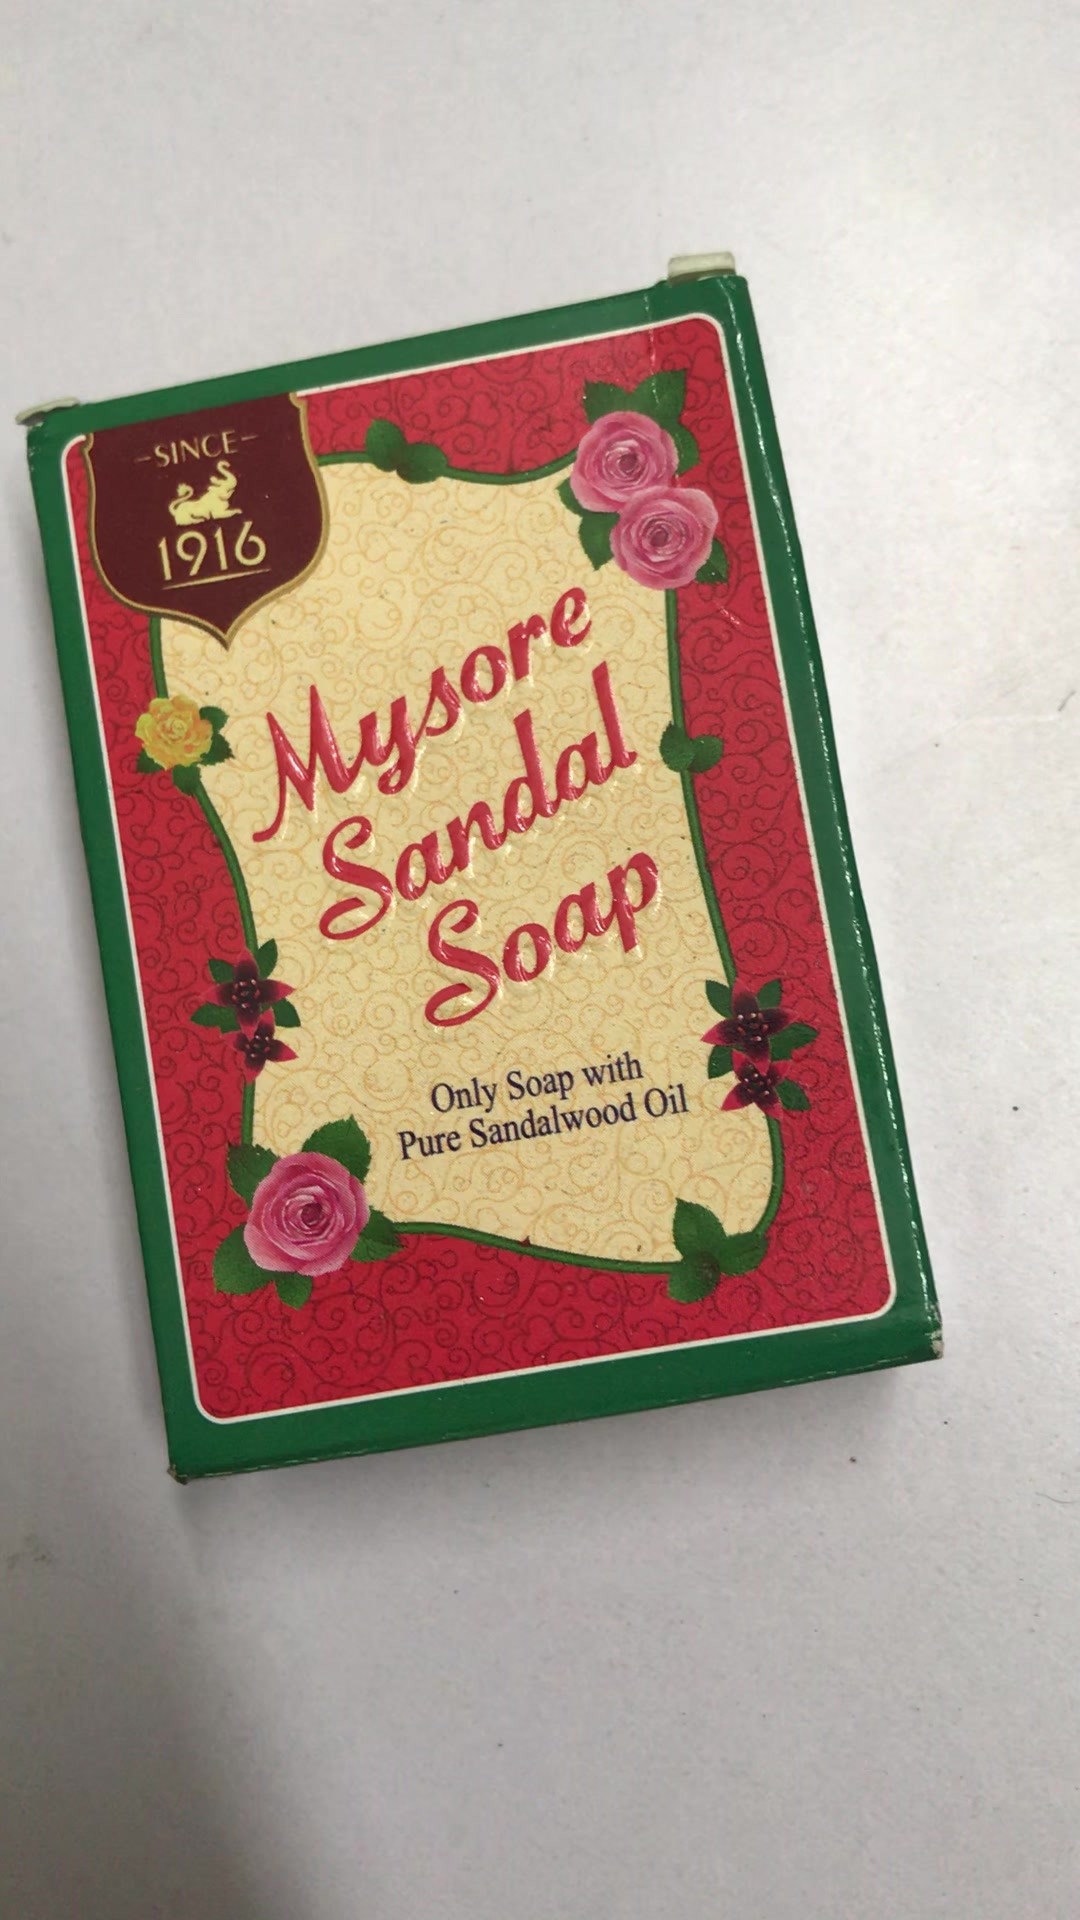mysore sandal soap: (26, 266, 947, 1480)
